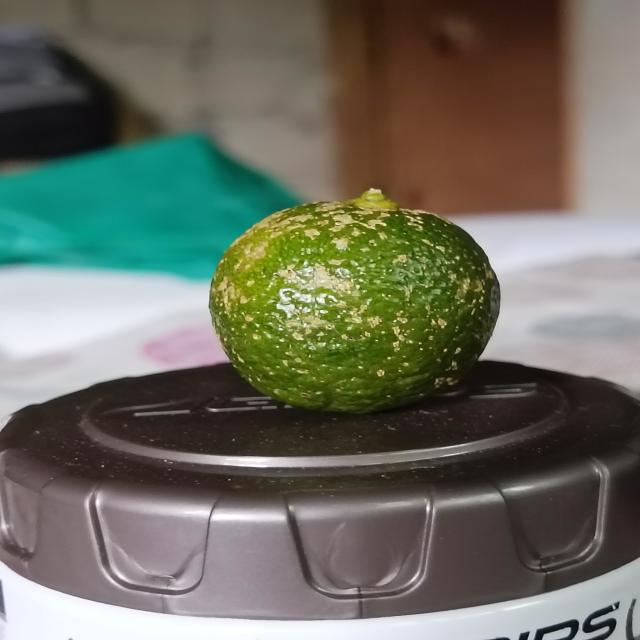scab: (198, 194, 511, 411)
